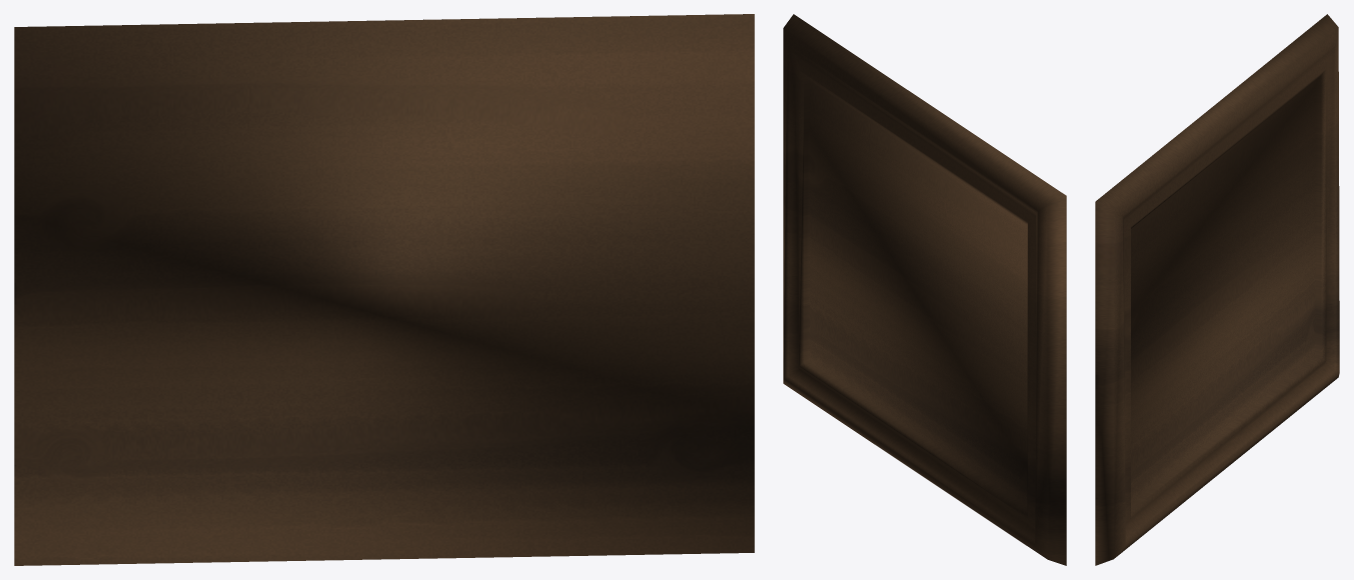
The model's file is painting_frametextured.fbx.
The picture shows the model from 3 angles, left to right: view 1: azimuth 30°, elevation 25°; view 2: azimuth 150°, elevation 25°; view 3: azimuth 270°, elevation 25°; orthographic projection. The views are drawn at different scales.
Visible parts, largest first — view 1: painting_frame; view 2: painting_frame; view 3: painting_frame.
Part boxes in pixels (box(x1,y1,x2,y2)): painting_frame: box(14, 14, 754, 565); painting_frame: box(783, 14, 1066, 565); painting_frame: box(1095, 14, 1339, 565).
Size of the model in its own units: 178 by 160 by 97.55.
1 material, 1 textured.
